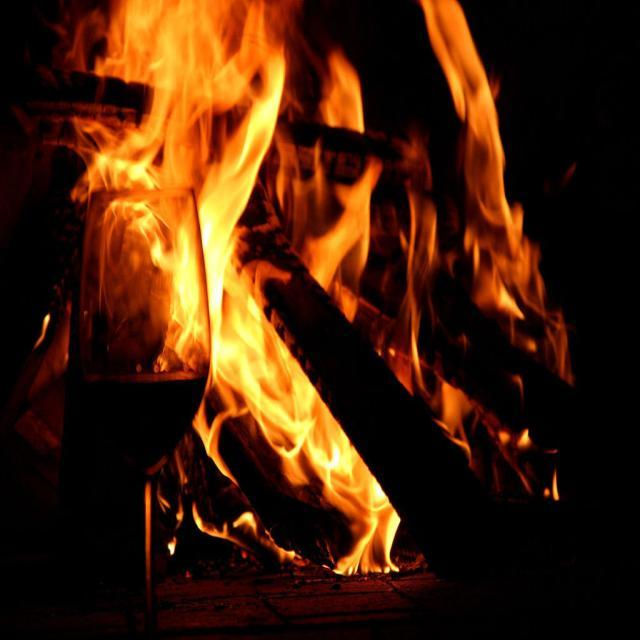Fire: (95, 121, 238, 268), (220, 300, 312, 485), (118, 3, 272, 93), (292, 144, 392, 273)
